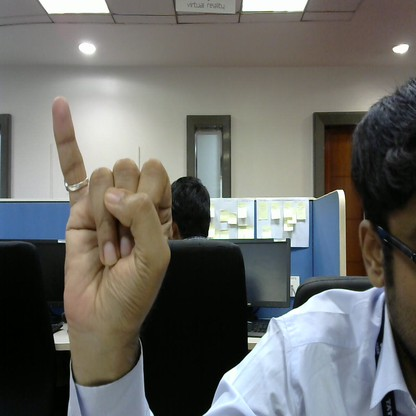i: (39, 90, 170, 357)
